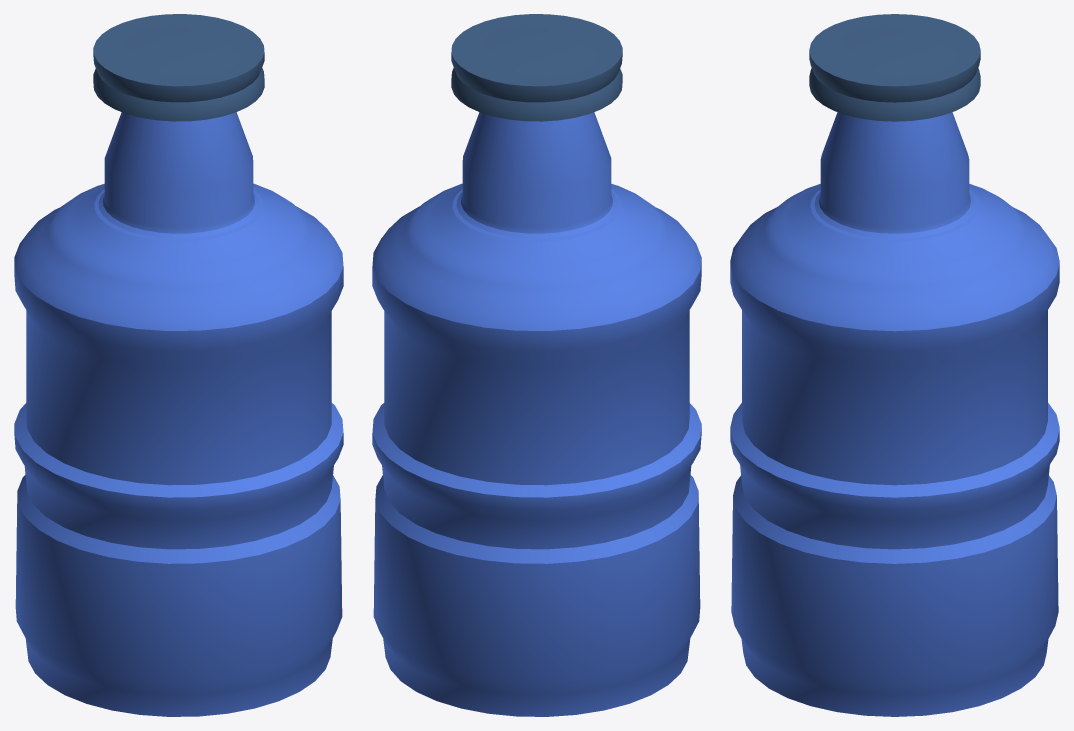
File: bottle7.glb
3 views of the same model, side by side, from view 1: azimuth 30°, elevation 25°; view 2: azimuth 150°, elevation 25°; view 3: azimuth 270°, elevation 25° (orthographic).
Visible parts, largest first — view 1: Bottle7; view 2: Bottle7; view 3: Bottle7.
Part boxes in pixels (x1,y1,x2,y2): Bottle7: (14, 14, 343, 716); Bottle7: (372, 14, 701, 716); Bottle7: (730, 14, 1059, 716).
Bounding box in the file's own units: 0.234 × 0.474 × 0.234.
